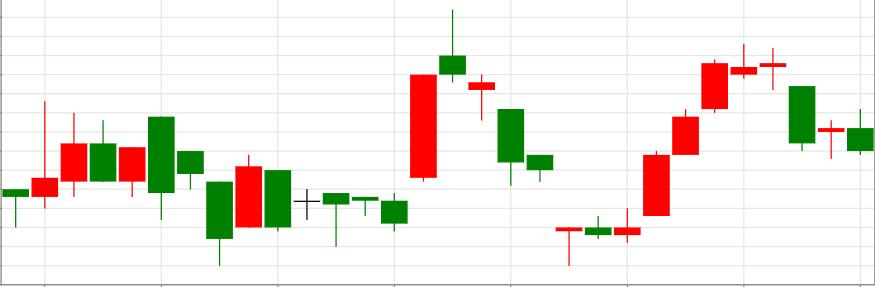three_white_soldiers_rise: (497, 58, 728, 267)
